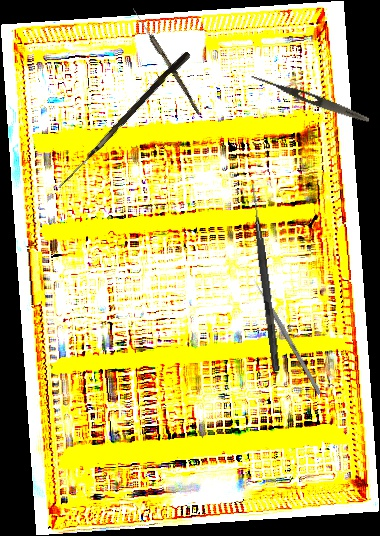Dressing Forceps: (248, 71, 372, 126)
Hook Surgical: (57, 48, 192, 195), (246, 183, 283, 372)
Pusher: (251, 278, 323, 395)
Surgical Spoon: (129, 6, 204, 116)
